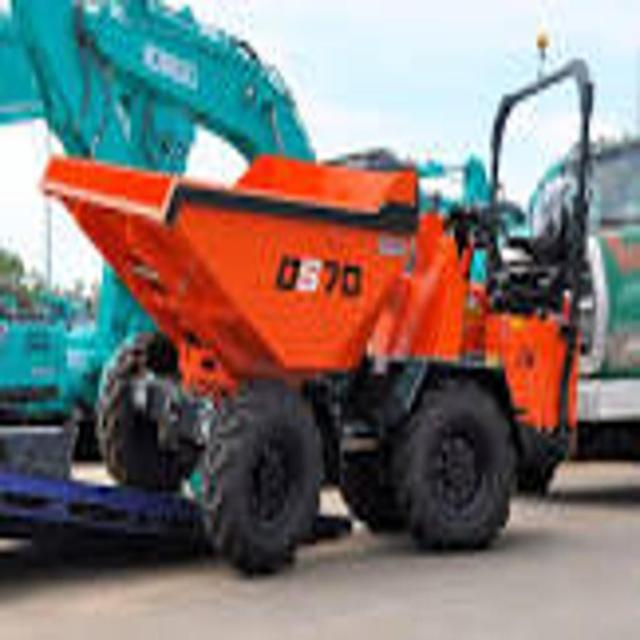dump_truck: (40, 107, 590, 570)
